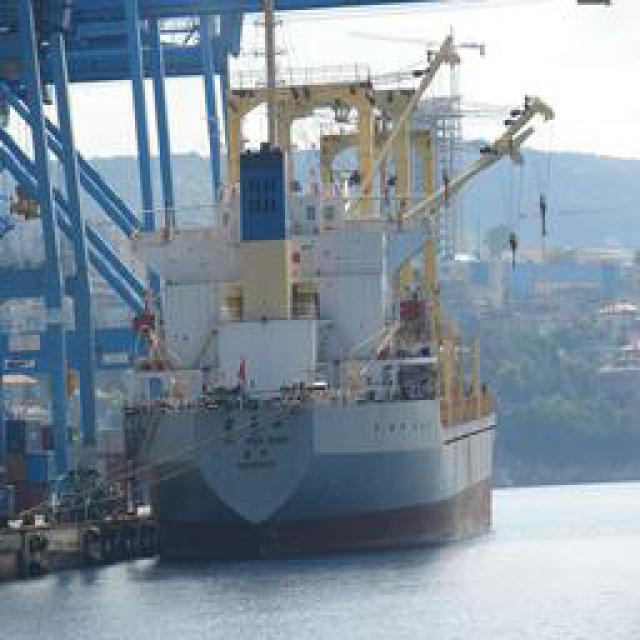Ship: (122, 137, 502, 557)
